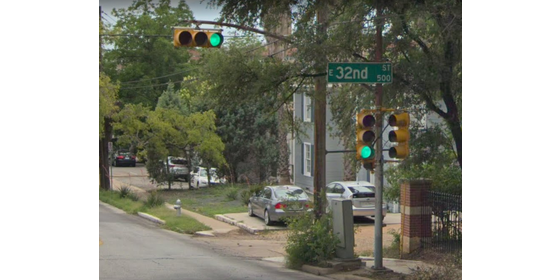street name sign: (325, 59, 397, 87)
